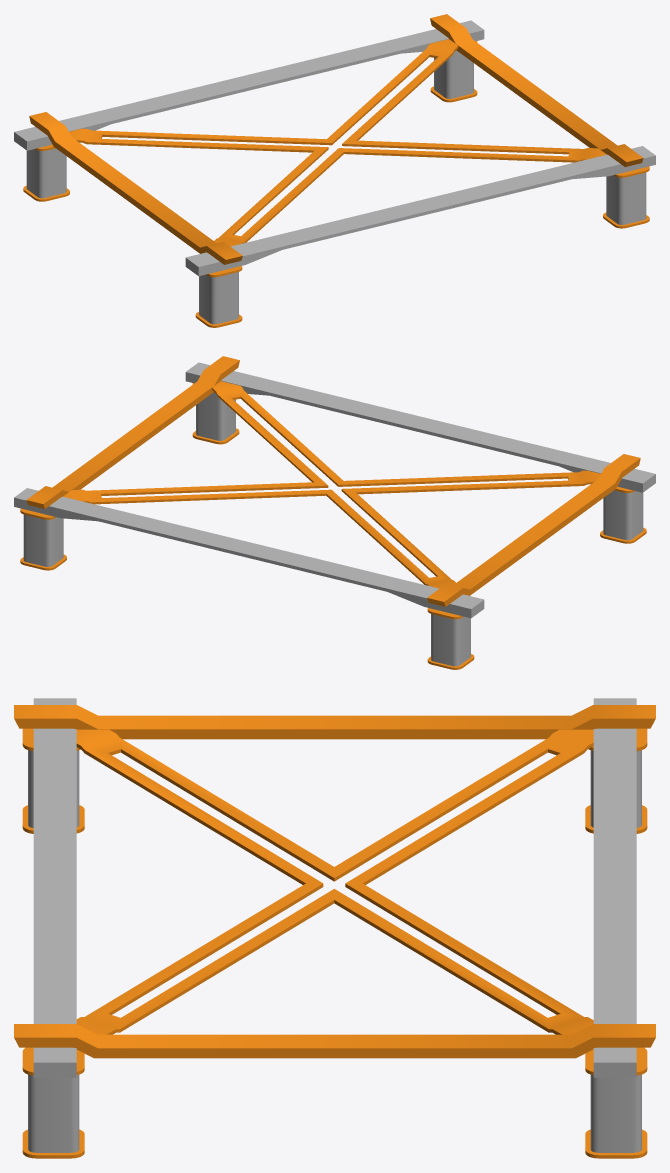
The model's file is MetalConstruction01.fbx.
3 renders of one model, top to bottom at view 1: azimuth 30°, elevation 25°; view 2: azimuth 150°, elevation 25°; view 3: azimuth 270°, elevation 25°, orthographic. The views are drawn at different scales.
Parts seen in each view (by area): view 1: SM_MetalConstruction01; view 2: SM_MetalConstruction01; view 3: SM_MetalConstruction01.
Part boxes in pixels (bbox=[...]): SM_MetalConstruction01: bbox=[14, 14, 655, 327]; SM_MetalConstruction01: bbox=[14, 356, 655, 669]; SM_MetalConstruction01: bbox=[14, 698, 655, 1158].
Size of the model in its own units: 700 by 100 by 522.
